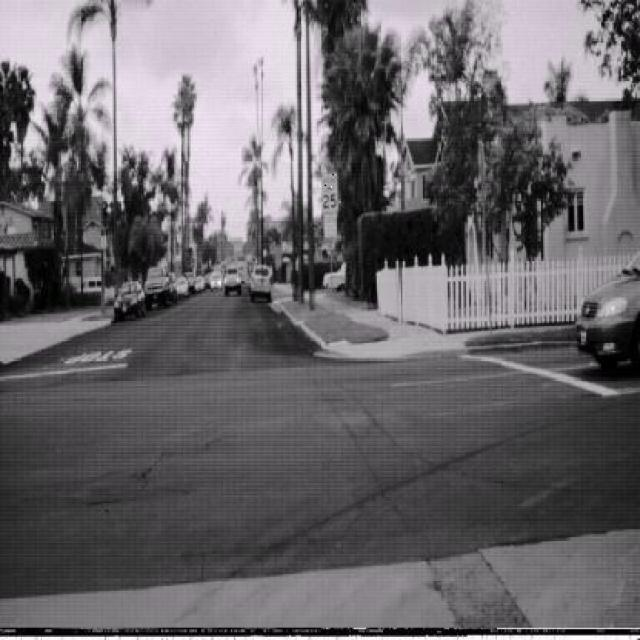speedLimit25: (320, 170, 340, 213)
